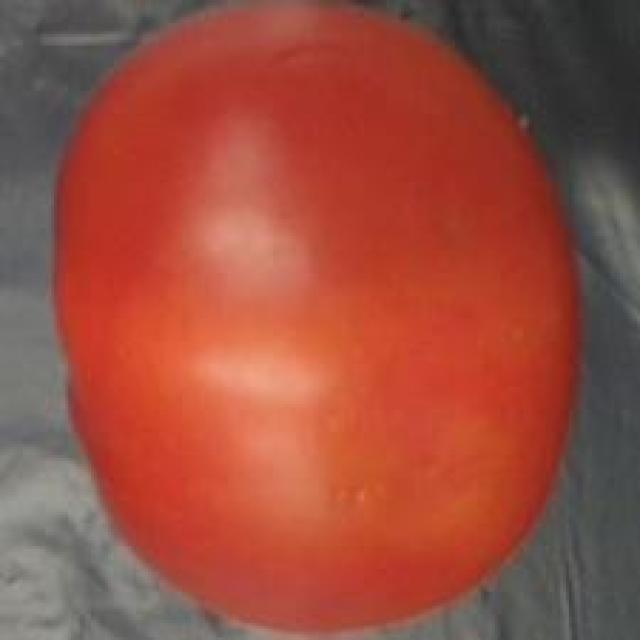ripe tomato: (42, 0, 588, 640)
